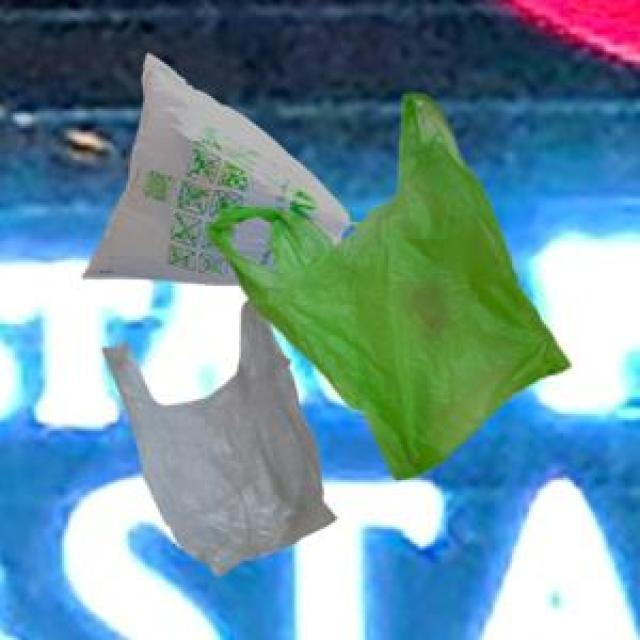waste: (85, 55, 569, 572)
